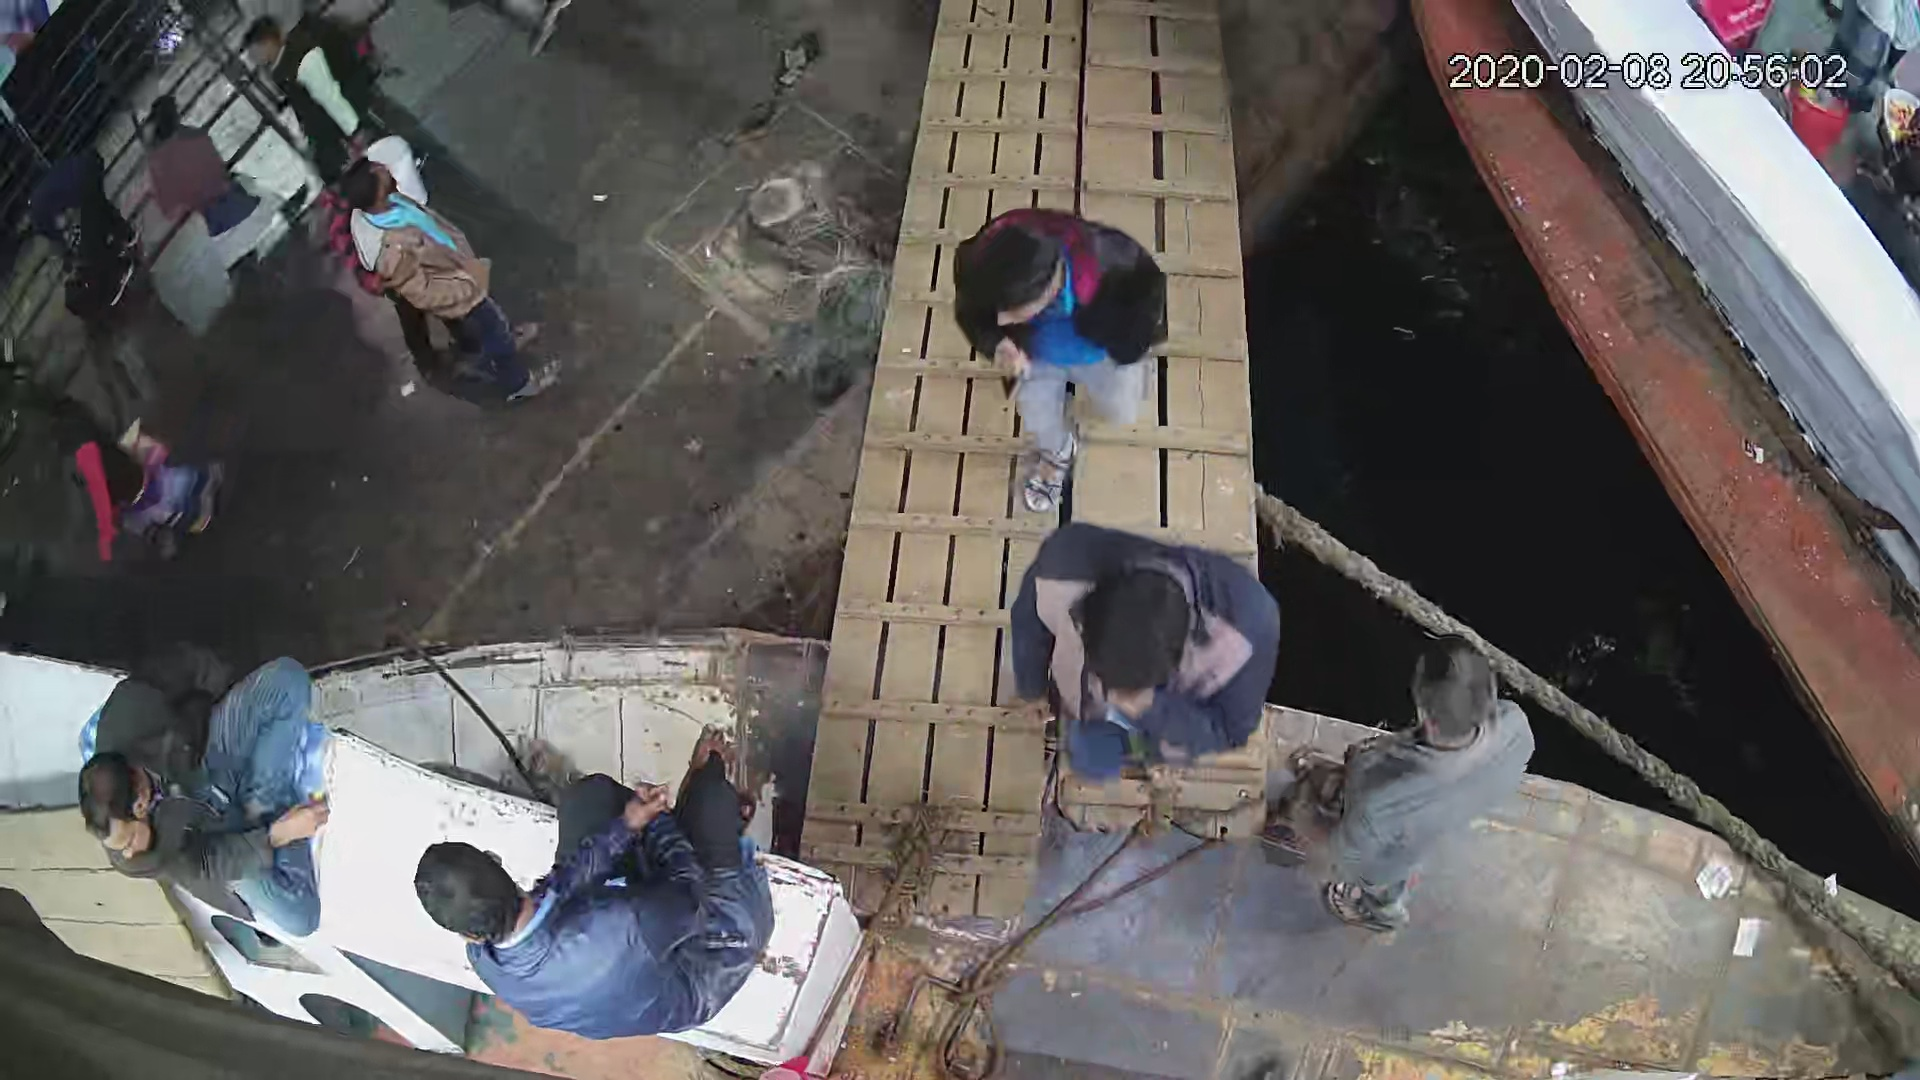person: (409, 724, 782, 1049), (70, 634, 328, 938), (1282, 633, 1539, 937), (1009, 512, 1284, 790), (946, 195, 1168, 516), (339, 159, 563, 408), (21, 381, 230, 570), (133, 92, 312, 279), (236, 15, 388, 139)
